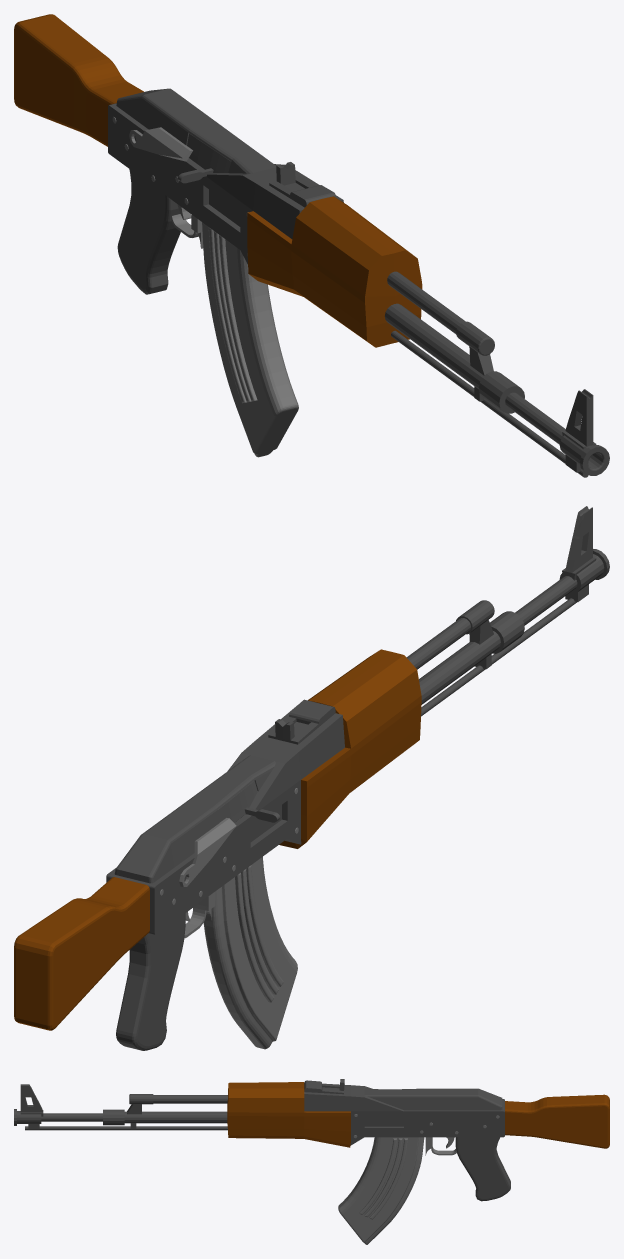
File: Kalash.fbx
The picture shows the model from 3 angles, top to bottom: view 1: azimuth 30°, elevation 25°; view 2: azimuth 150°, elevation 25°; view 3: azimuth 270°, elevation 25°; orthographic projection. The views are drawn at different scales.
Parts seen in each view (by area): view 1: Калаш, Магазин, Предохранитель, Калаш.003; view 2: Калаш, Магазин, Предохранитель, Калаш.003; view 3: Калаш, Магазин.
Part boxes in pixels (x1,y1,x2,y2): Калаш: [14, 14, 609, 477]; Магазин: [202, 222, 298, 457]; Предохранитель: [129, 127, 192, 161]; Калаш.003: [178, 133, 231, 183]; Калаш: [14, 506, 609, 1050]; Магазин: [203, 857, 297, 1049]; Предохранитель: [179, 818, 236, 886]; Калаш.003: [217, 780, 280, 822]; Калаш: [14, 1079, 609, 1201]; Магазин: [338, 1137, 424, 1244].
Size of the model in its own units: 31.86 by 116 by 386.
